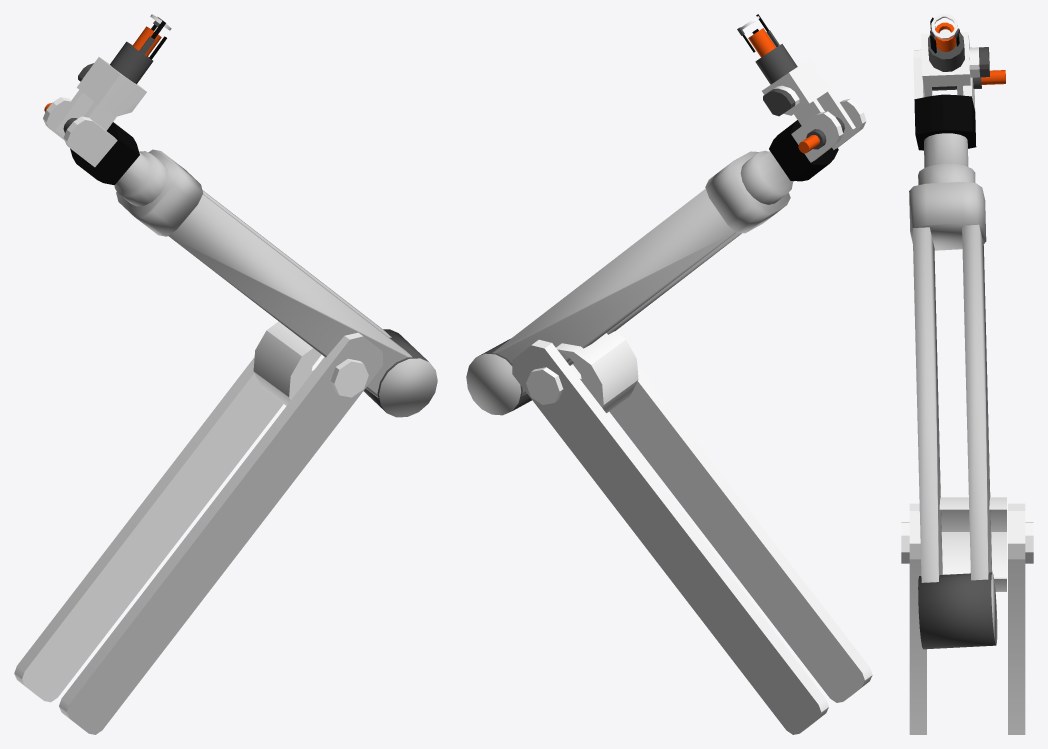
Rendered from Brazo.obj.
3 renders of one model, left to right at view 1: azimuth 30°, elevation 25°; view 2: azimuth 150°, elevation 25°; view 3: azimuth 270°, elevation 25°, orthographic. The views are drawn at different scales.
Parts seen in each view (by area): view 1: Brazo_Completo; view 2: Brazo_Completo; view 3: Brazo_Completo.
Boxes of the visible parts, box(x1,y1,x2,y2) form: Brazo_Completo: box(14, 14, 437, 734); Brazo_Completo: box(466, 14, 872, 734); Brazo_Completo: box(901, 14, 1033, 734).
Bounding box in the file's own units: 3.93 × 6.86 × 1.08.
